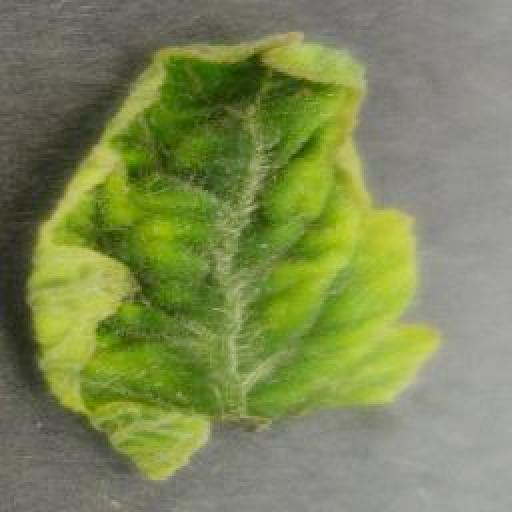disease_tomato: (24, 30, 442, 482)
